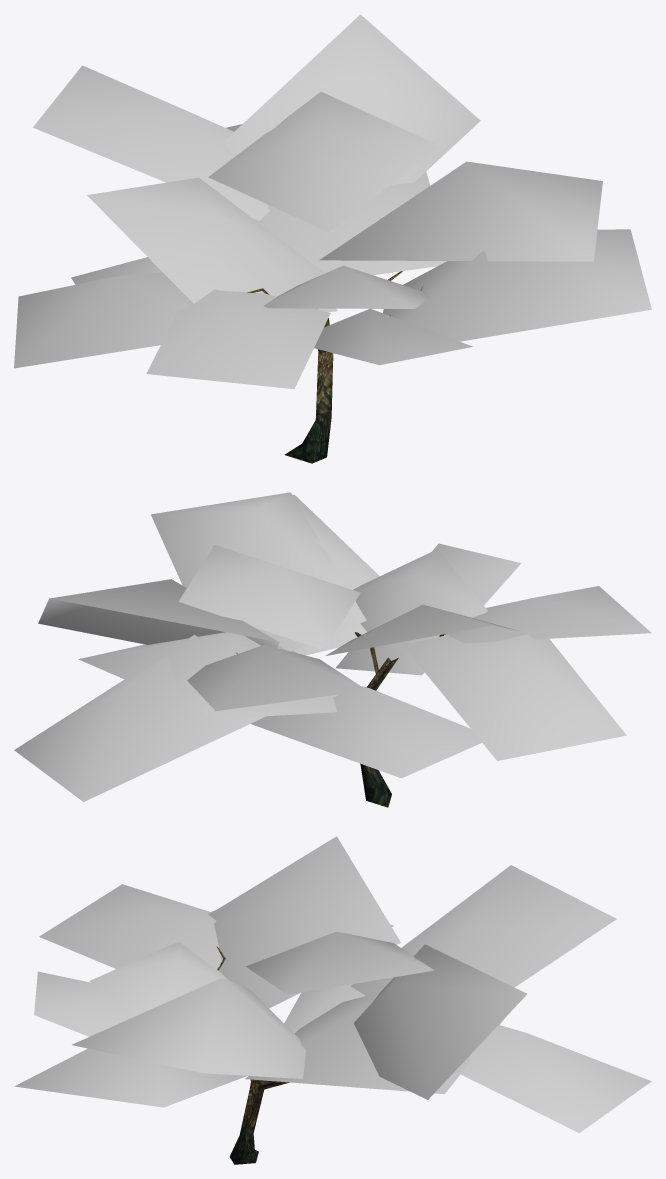
The model's file is GYMS00058_12.FBX.
3 renders of one model, top to bottom at view 1: azimuth 30°, elevation 25°; view 2: azimuth 150°, elevation 25°; view 3: azimuth 270°, elevation 25°, orthographic. The views are drawn at different scales.
Visible parts, largest first — view 1: MS00058_12; view 2: MS00058_12; view 3: MS00058_12.
Part boxes in pixels (bbox=[...]): MS00058_12: bbox=[14, 14, 651, 463]; MS00058_12: bbox=[14, 492, 651, 807]; MS00058_12: bbox=[14, 836, 651, 1164].
Bounding box in the file's own units: 4.24 × 2.03 × 4.55.
